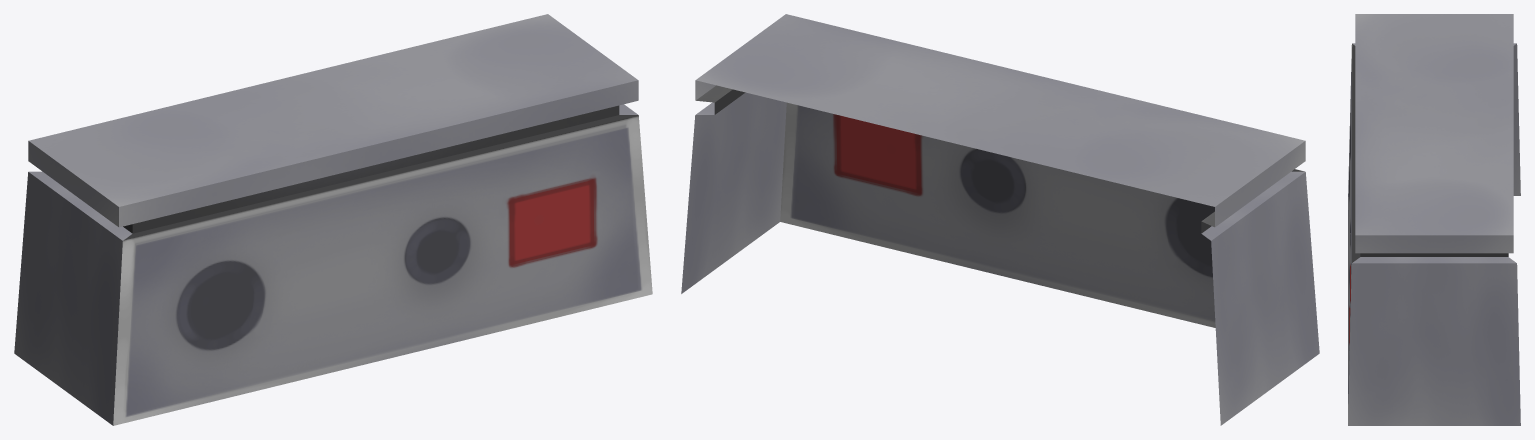
The model's file is SM_HOTPLATE STIRRER.FBX.
3 renders of one model, left to right at view 1: azimuth 30°, elevation 25°; view 2: azimuth 150°, elevation 25°; view 3: azimuth 270°, elevation 25°, orthographic. The views are drawn at different scales.
Parts seen in each view (by area): view 1: HOTPLATE STIRRER; view 2: HOTPLATE STIRRER; view 3: HOTPLATE STIRRER.
Boxes of the visible parts, x1,y1,x2,y2 form: HOTPLATE STIRRER: (14, 14, 652, 425); HOTPLATE STIRRER: (681, 14, 1319, 425); HOTPLATE STIRRER: (1348, 14, 1520, 425).
Size of the model in its own units: 181 by 68.45 by 57.52.
1 material, 1 textured.
